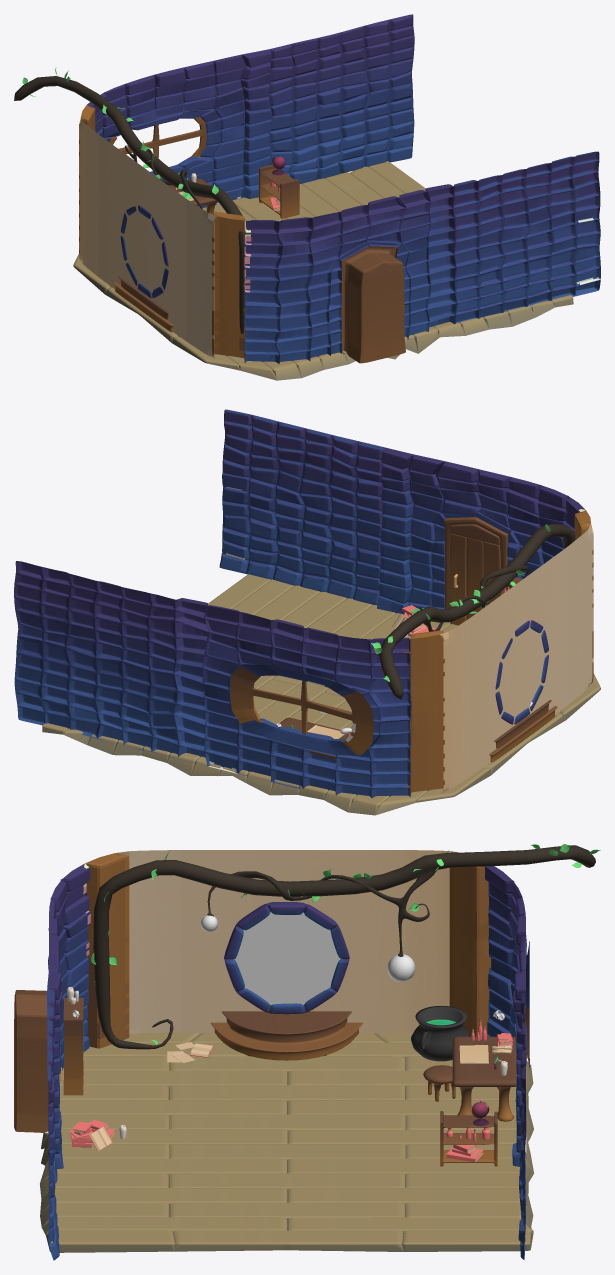
The model's file is house23.fbx.
3 views of the same model, one above another, from view 1: azimuth 30°, elevation 25°; view 2: azimuth 150°, elevation 25°; view 3: azimuth 270°, elevation 25° (orthographic). The views are drawn at different scales.
Visible parts, largest first — view 1: Walls, Floor, Vine, Cube, Stairs, PortalRim; view 2: Walls, Floor, Vine, Walls.001, Stairs, PortalRim; view 3: Floor, Walls, Vine, Circle, Stairs, PortalRim, Table, Cylinder.001, Bookshelf, Cube, Cylinder, LightOrb.001 (+1 smaller).
Part boxes in pixels (bbox=[...]): Walls: bbox=[79, 14, 600, 363]; Floor: bbox=[73, 161, 573, 380]; Vine: bbox=[14, 76, 245, 333]; Cube: bbox=[259, 164, 299, 218]; Stairs: bbox=[112, 276, 174, 332]; PortalRim: bbox=[120, 205, 168, 298]; Walls: bbox=[14, 409, 593, 798]; Floor: bbox=[42, 574, 600, 815]; Vine: bbox=[379, 524, 575, 699]; Walls.001: bbox=[450, 524, 500, 625]; Stairs: bbox=[489, 700, 557, 762]; PortalRim: bbox=[495, 620, 548, 724]; Floor: bbox=[40, 1032, 533, 1252]; Walls: bbox=[14, 850, 529, 1260]; Vine: bbox=[93, 845, 595, 1049]; Circle: bbox=[234, 912, 340, 1004]; Stairs: bbox=[210, 1011, 362, 1060]; PortalRim: bbox=[224, 902, 349, 1014]; Table: bbox=[452, 1036, 516, 1121]; Cylinder.001: bbox=[411, 1005, 470, 1061]; Bookshelf: bbox=[63, 998, 83, 1095]; Cube: bbox=[440, 1111, 497, 1166]; Cylinder: bbox=[423, 1065, 455, 1101]; LightOrb.001: bbox=[387, 954, 415, 981].
Bounding box in the file's own units: 792 × 362 × 841.
